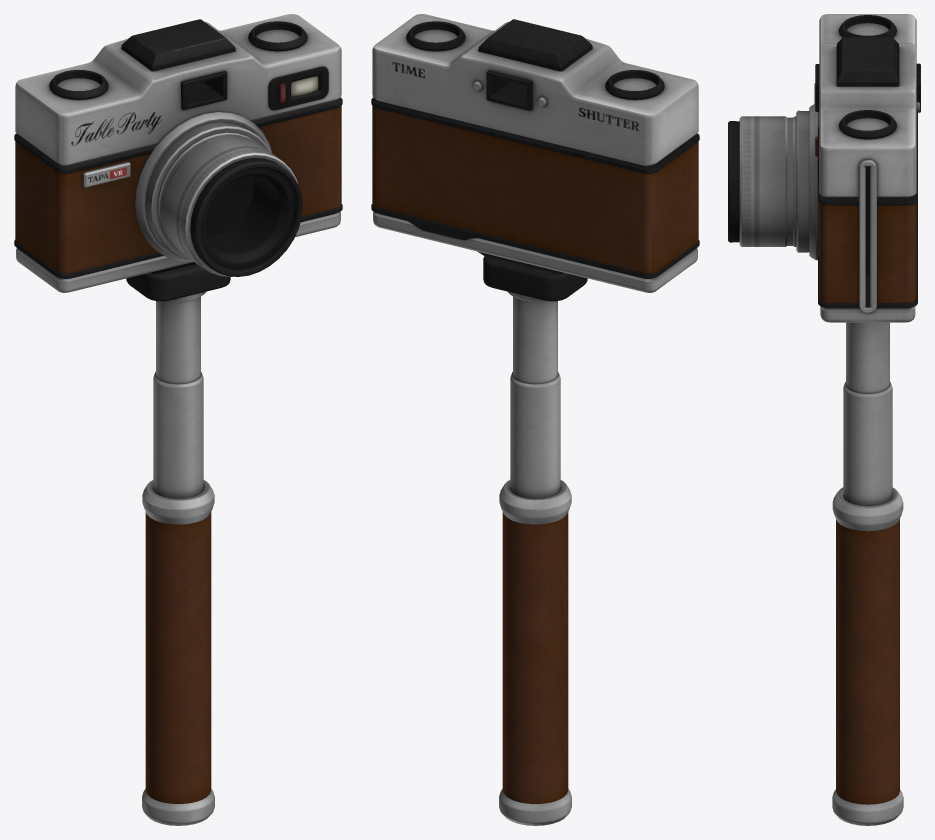
File: ChristmasRoom_Camera.fbx
3 renders of one model, left to right at view 1: azimuth 30°, elevation 25°; view 2: azimuth 150°, elevation 25°; view 3: azimuth 270°, elevation 25°, orthographic. The views are drawn at different scales.
Visible parts, largest first — view 1: ChristmasRoom_Camera; view 2: ChristmasRoom_Camera; view 3: ChristmasRoom_Camera.
Boxes of the visible parts, x1,y1,x2,y2 form: ChristmasRoom_Camera: [14, 14, 342, 825]; ChristmasRoom_Camera: [371, 14, 699, 825]; ChristmasRoom_Camera: [728, 14, 920, 825].
Bounding box in the file's own units: 23.34 × 60.17 × 13.84.
